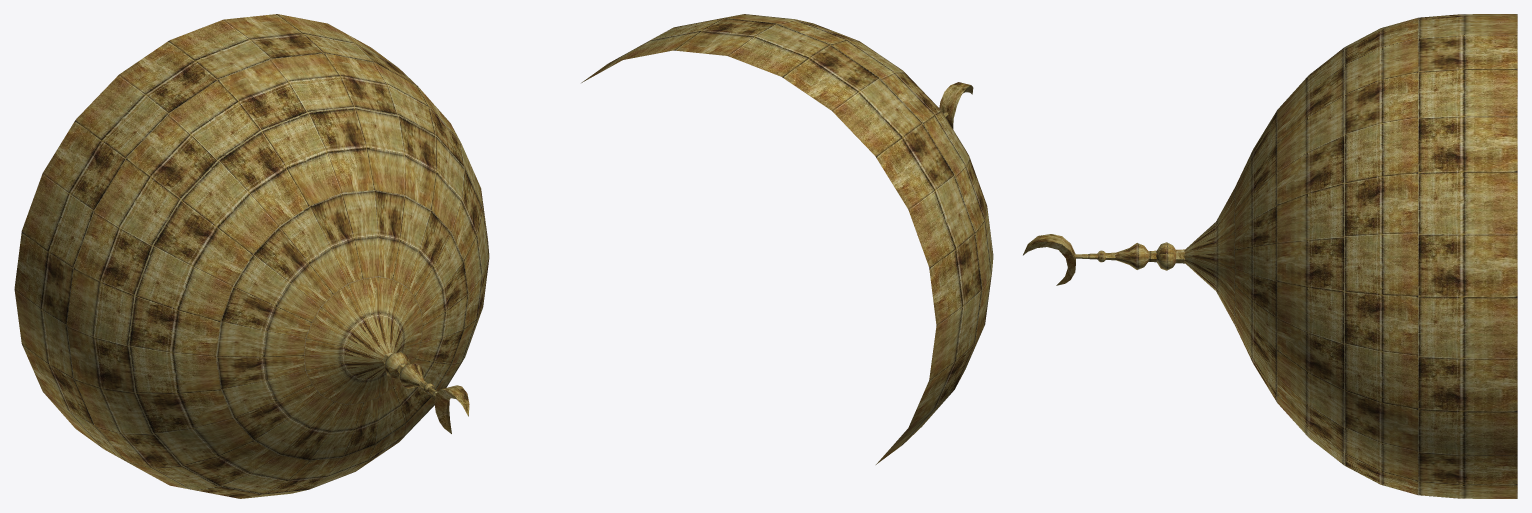
Rendered from dome_04.glb.
The picture shows the model from 3 angles, left to right: view 1: azimuth 30°, elevation 25°; view 2: azimuth 150°, elevation 25°; view 3: azimuth 270°, elevation 25°; orthographic projection.
Bounding box in the file's own units: 305 × 305 × 310.
1 material, 1 textured.
